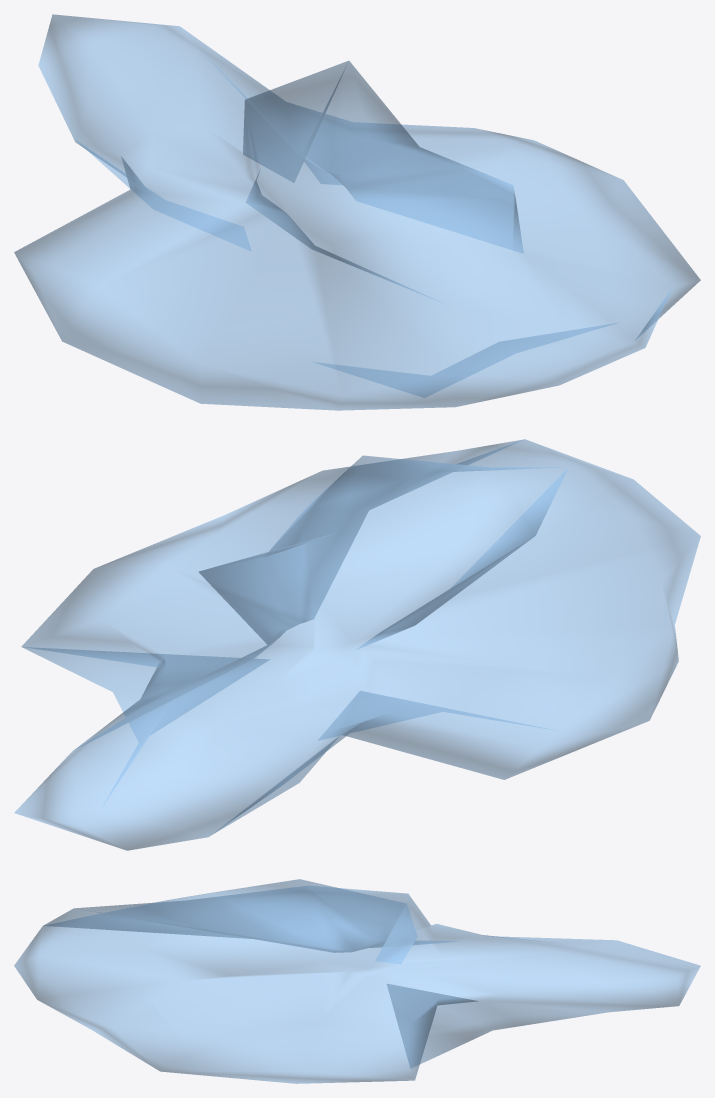
The model's file is thawkes_shield.gltf.
3 views of the same model, one above another, from view 1: azimuth 30°, elevation 25°; view 2: azimuth 150°, elevation 25°; view 3: azimuth 270°, elevation 25° (orthographic). The views are drawn at different scales.
Parts seen in each view (by area): view 1: thawkes.shield; view 2: thawkes.shield; view 3: thawkes.shield.
Boxes of the visible parts, x1=… form: thawkes.shield: x1=14, y1=14, x2=700, y2=410; thawkes.shield: x1=14, y1=439, x2=700, y2=850; thawkes.shield: x1=14, y1=879, x2=700, y2=1083.
Bounding box in the file's own units: 14.79 × 4.28 × 22.97.
